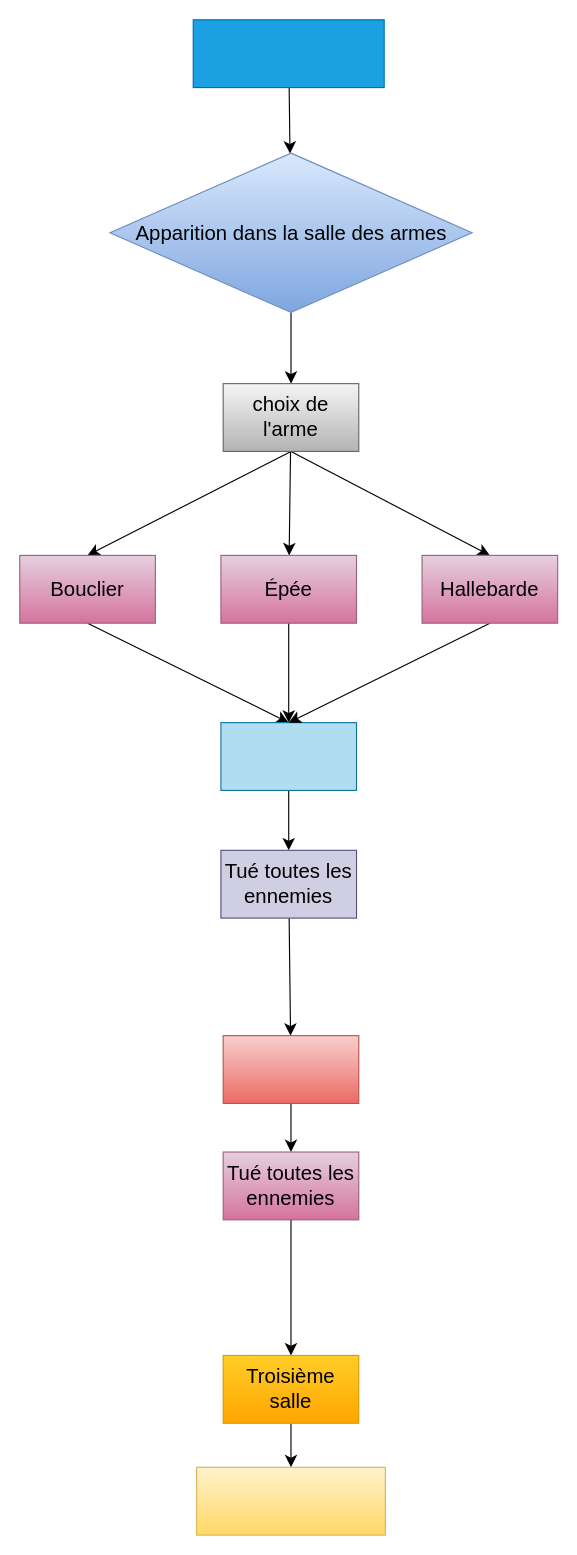
Image size: 577x1555. Some labels were removed from this diagram. Each missing label, with the centre of its shape:
Commencement: point 288,53
Deuxième salle: point 290,1069
Première salle: point 288,756
Tué le grand méchant: point 290,1500
